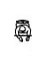Seat: (14, 19, 32, 42)
